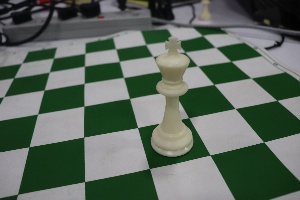white_king: (140, 25, 204, 162)
